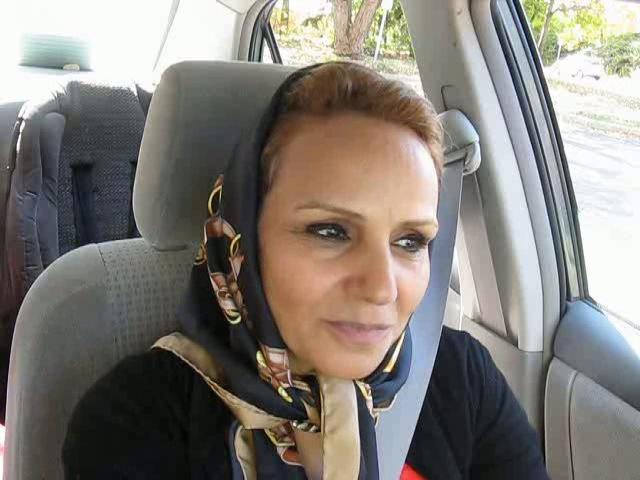eye_open: (292, 216, 355, 248), (392, 226, 433, 255)
face: (271, 174, 438, 382)
